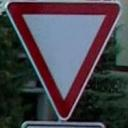preferencia: (6, 0, 122, 121)
